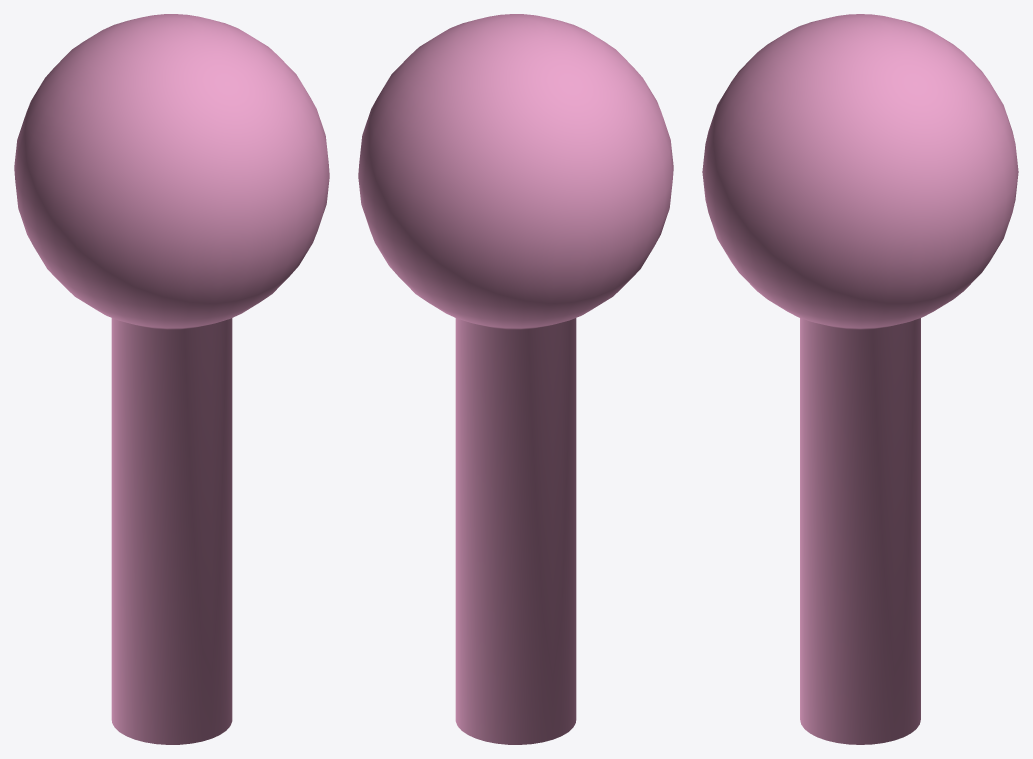
The model's file is TestHuman.gltf.
3 renders of one model, left to right at view 1: azimuth 30°, elevation 25°; view 2: azimuth 150°, elevation 25°; view 3: azimuth 270°, elevation 25°, orthographic.
Visible parts, largest first — view 1: human; view 2: human; view 3: human.
Part boxes in pixels (box(x1,y1,x2,y2)): human: box(14, 14, 329, 744); human: box(358, 14, 673, 744); human: box(702, 14, 1018, 744).
Size of the model in its own units: 1.14 by 2.8 by 1.14.
